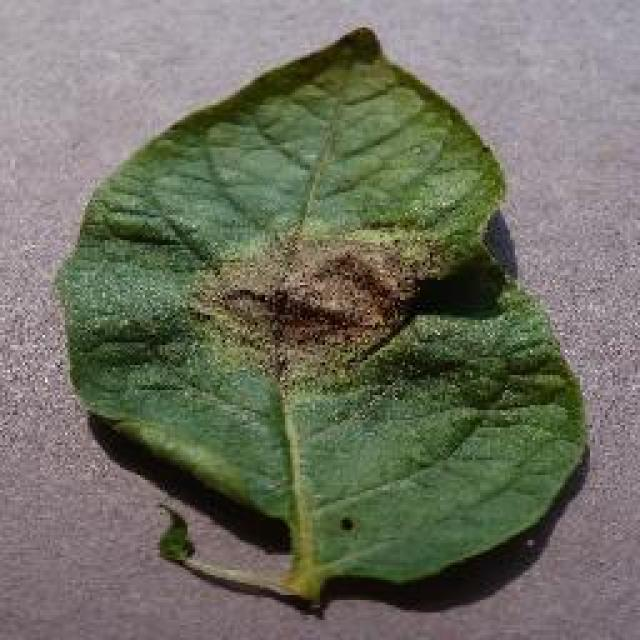late_blight: (50, 22, 592, 608)
